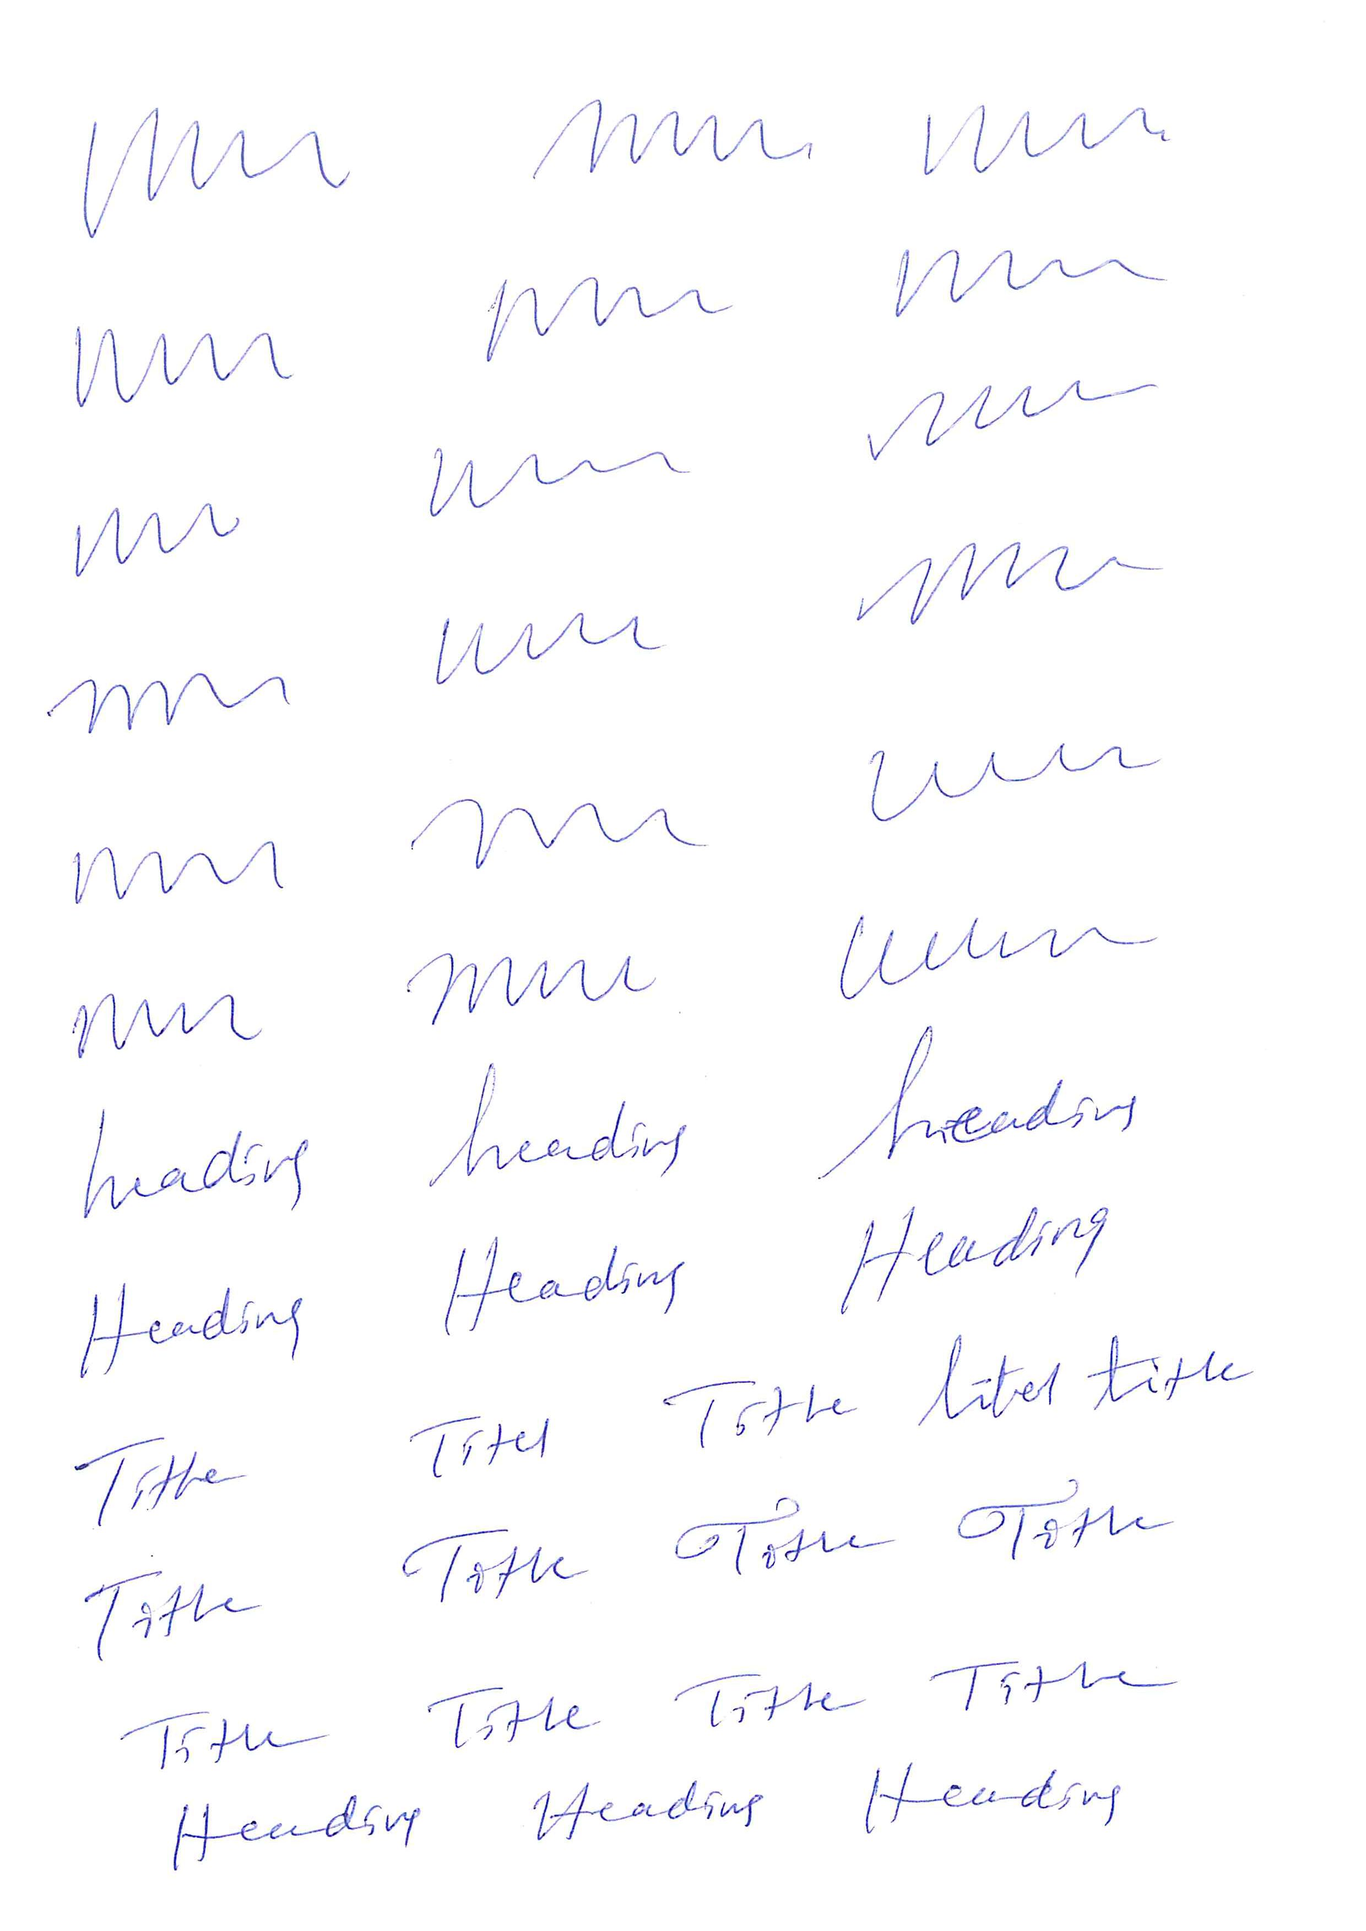Heading: (816, 1022, 1138, 1184), (81, 103, 352, 240), (421, 1068, 690, 1192), (834, 1199, 1112, 1317), (832, 911, 1156, 1004), (852, 541, 1163, 631), (77, 1104, 309, 1218), (438, 1232, 687, 1337), (529, 101, 815, 186), (74, 1282, 306, 1381), (166, 1793, 424, 1872), (671, 1499, 896, 1584), (72, 327, 294, 411), (860, 1765, 1122, 1836), (956, 1477, 1171, 1561), (81, 1567, 262, 1663), (72, 1433, 242, 1530), (914, 1337, 1072, 1431), (653, 1377, 852, 1452), (531, 1782, 761, 1844), (931, 1659, 1174, 1717), (401, 1529, 588, 1601), (67, 988, 262, 1057), (118, 1708, 327, 1771), (1087, 1337, 1254, 1414), (667, 1669, 866, 1728), (424, 1686, 602, 1751), (404, 1412, 551, 1484)
